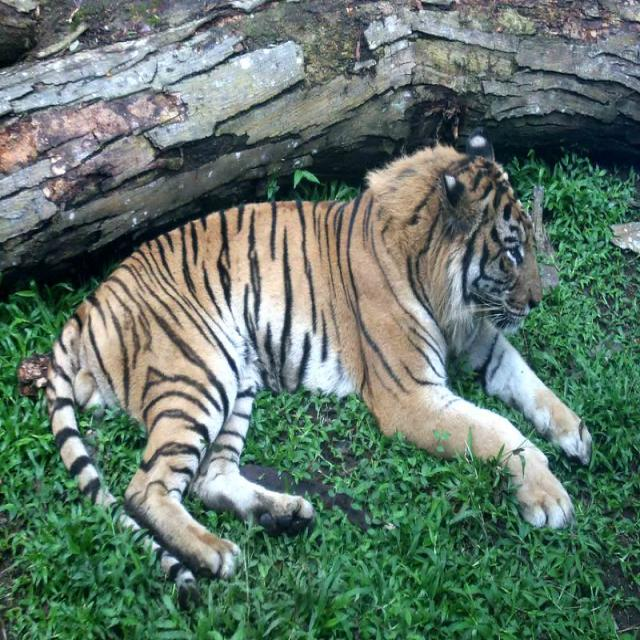Tiger: (46, 126, 598, 591)
